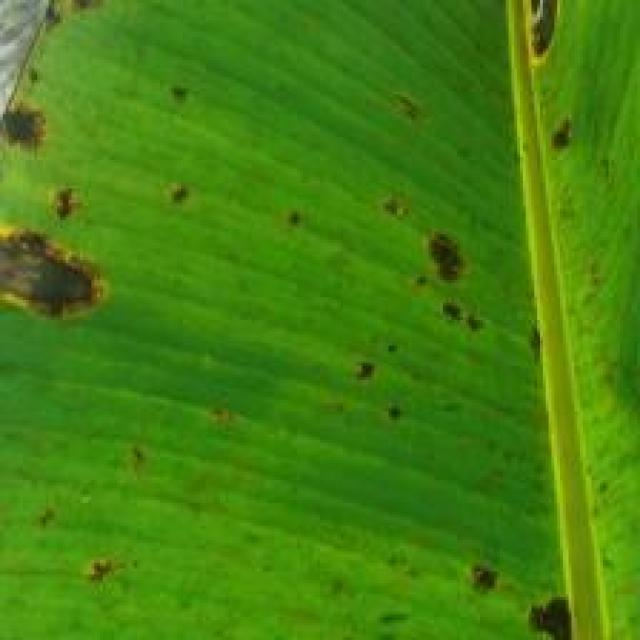Downey_mildrew: (0, 0, 640, 640), (342, 182, 548, 441), (0, 175, 132, 338), (0, 0, 114, 165), (444, 535, 591, 640), (504, 0, 597, 156), (57, 540, 143, 612), (367, 72, 442, 143), (156, 62, 204, 120), (156, 164, 190, 215), (111, 441, 162, 475), (280, 188, 308, 248)
